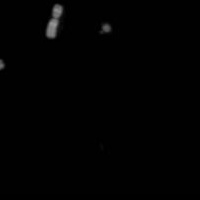chromosome: (45, 4, 62, 38), (99, 24, 110, 34), (0, 59, 5, 78)
